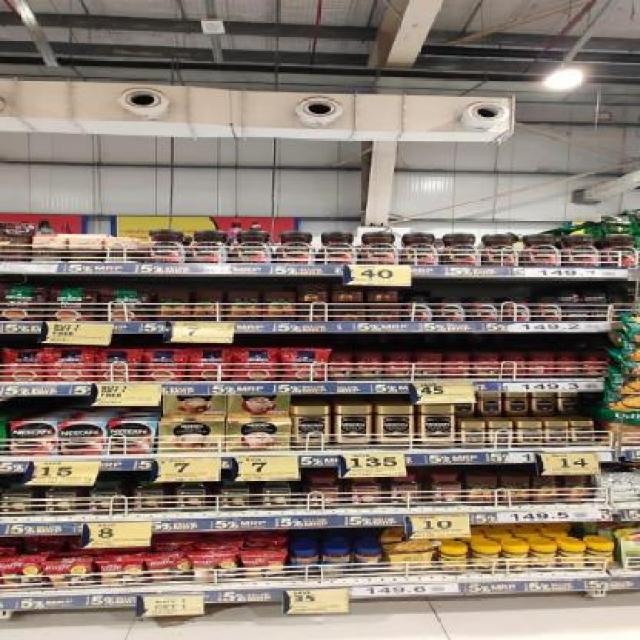Coffee: (416, 406, 461, 448), (332, 406, 374, 448), (10, 421, 59, 456), (60, 422, 106, 456), (377, 406, 414, 448), (109, 421, 156, 454), (293, 406, 327, 449), (146, 230, 186, 262), (525, 234, 561, 266), (602, 235, 636, 268), (190, 230, 225, 262), (319, 232, 355, 263), (278, 232, 313, 263), (485, 233, 520, 264), (235, 232, 271, 262), (361, 232, 397, 262), (404, 234, 440, 264), (566, 234, 599, 266), (445, 233, 478, 264), (530, 296, 562, 320), (402, 295, 432, 319), (468, 296, 498, 320), (499, 296, 527, 321), (437, 296, 465, 320), (568, 421, 594, 445), (544, 421, 568, 447), (489, 422, 513, 447), (516, 422, 540, 447), (460, 423, 484, 448), (474, 394, 500, 415), (530, 393, 554, 415), (504, 393, 528, 415), (558, 392, 579, 414), (586, 306, 614, 320), (563, 308, 588, 320), (581, 292, 608, 302), (558, 293, 580, 302)
